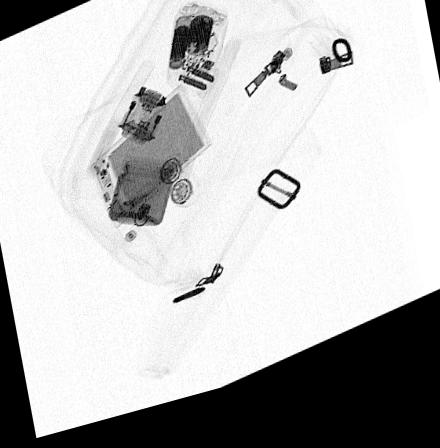Powerbank: (87, 92, 213, 235)
